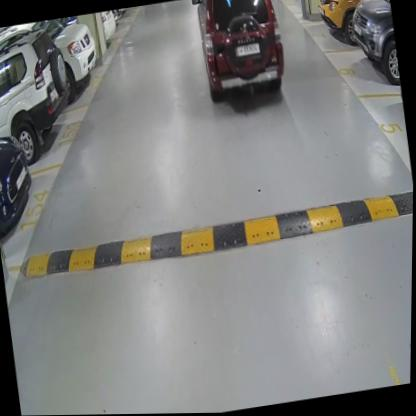np: (234, 43, 259, 57)
